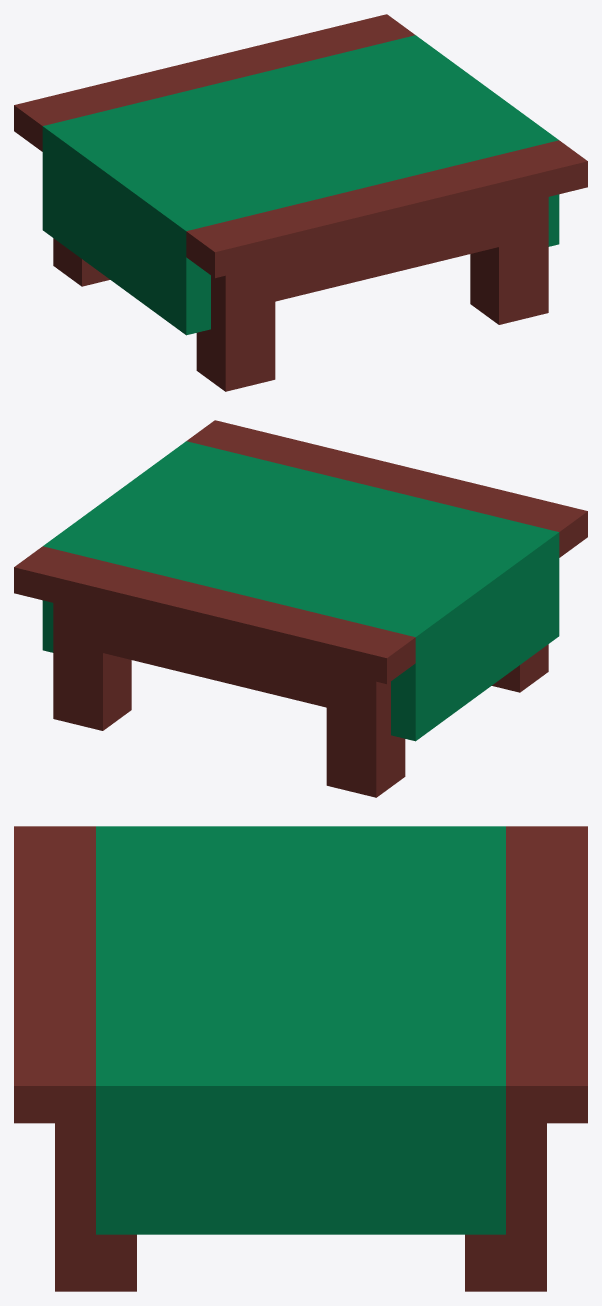
File: small_table_b_green.obj
3 views of the same model, one above another, from view 1: azimuth 30°, elevation 25°; view 2: azimuth 150°, elevation 25°; view 3: azimuth 270°, elevation 25° (orthographic). The views are drawn at different scales.
Size of the model in its own units: 1.5 by 0.6 by 1.4.
1 material, 1 textured.
